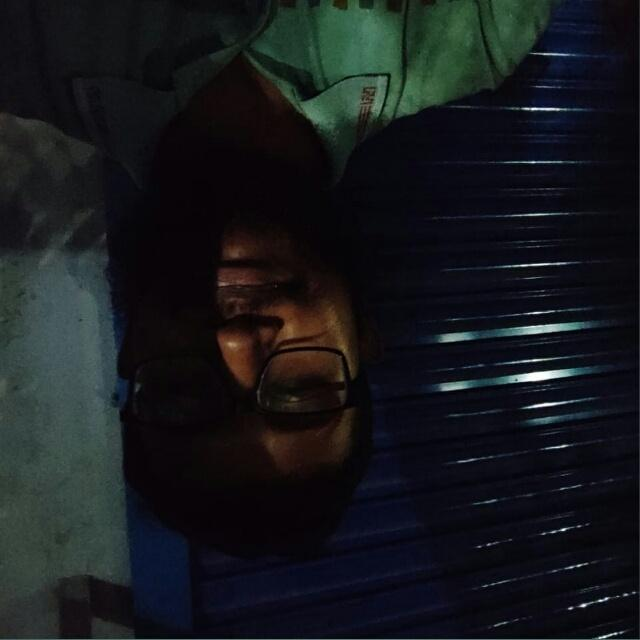Disgust: (115, 177, 377, 558)
